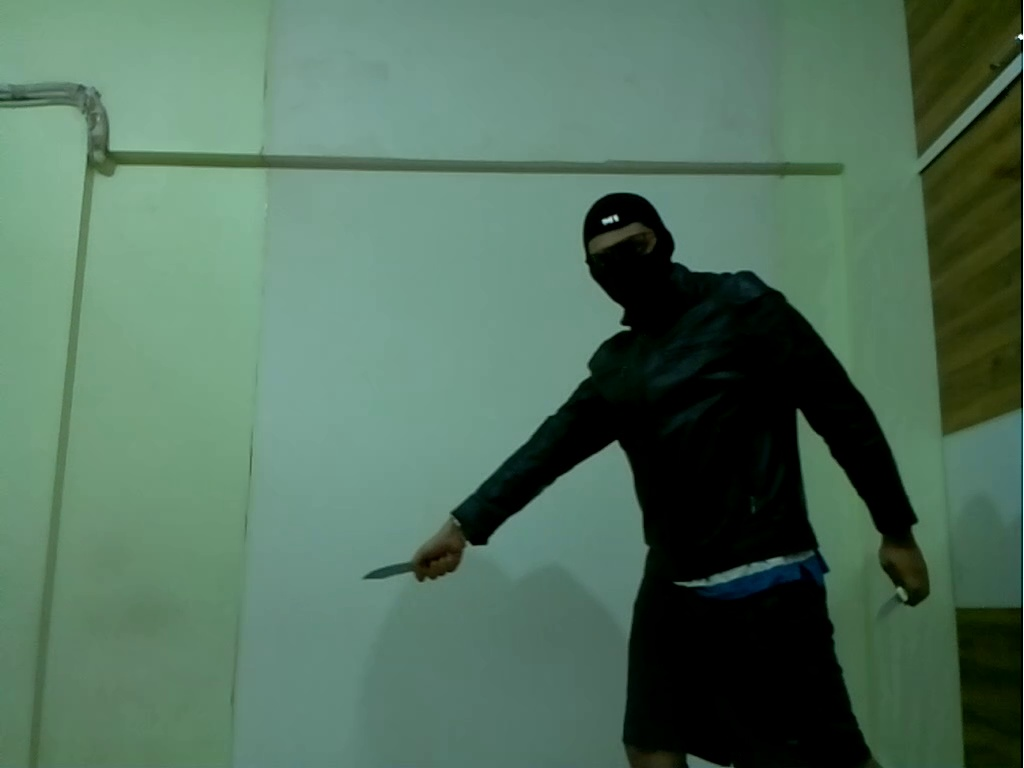knife: (359, 540, 457, 594)
